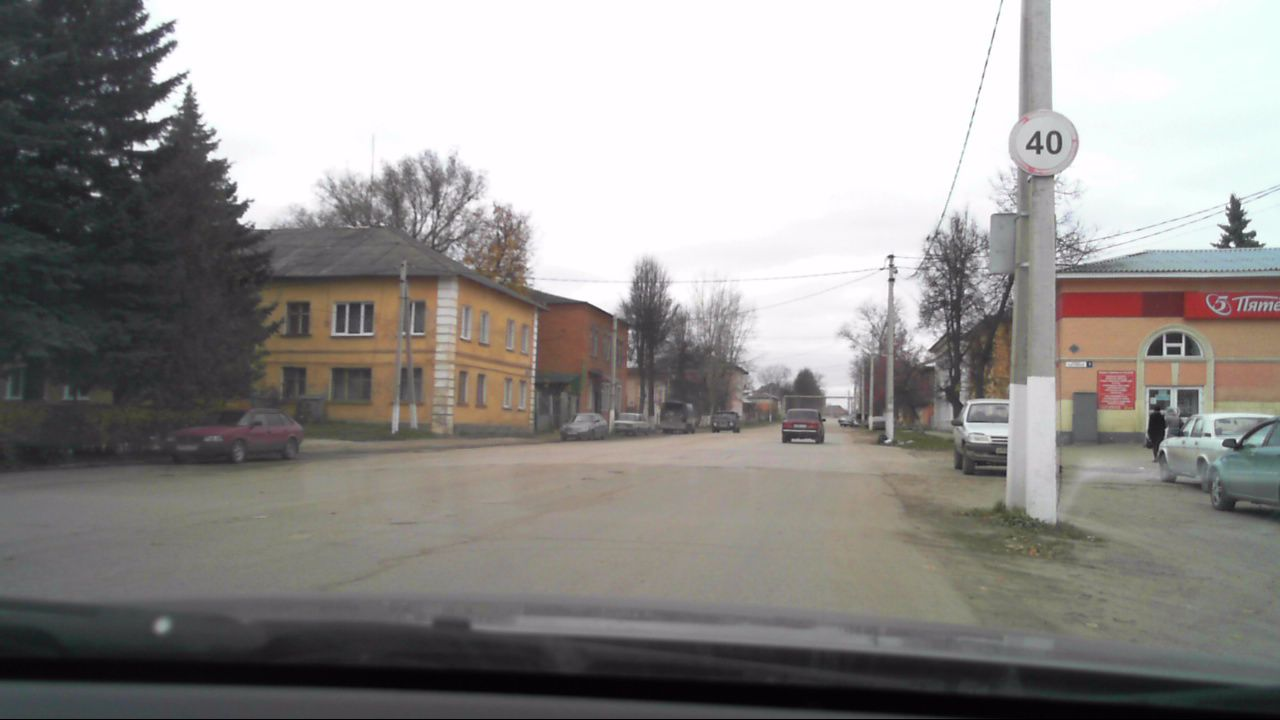speed_warning_40: (1007, 107, 1082, 176)
